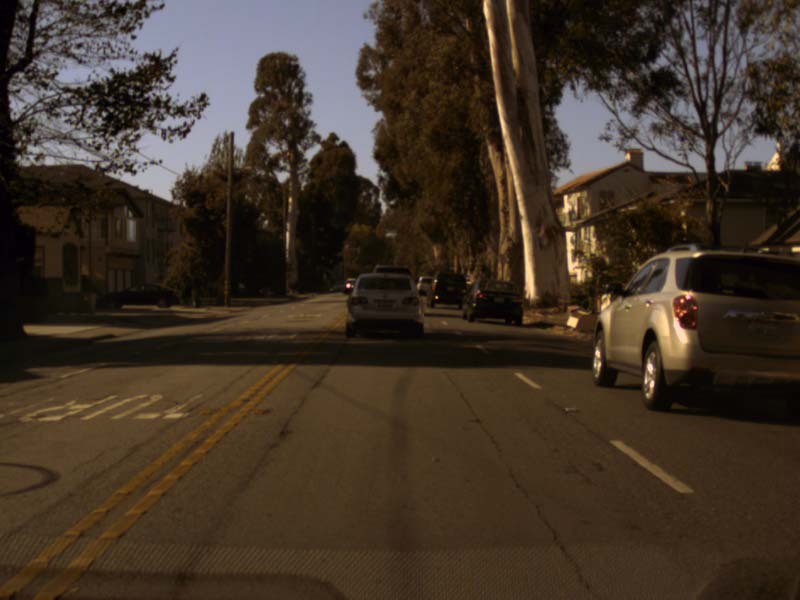Green: (444, 263, 449, 270), (387, 254, 391, 262)
